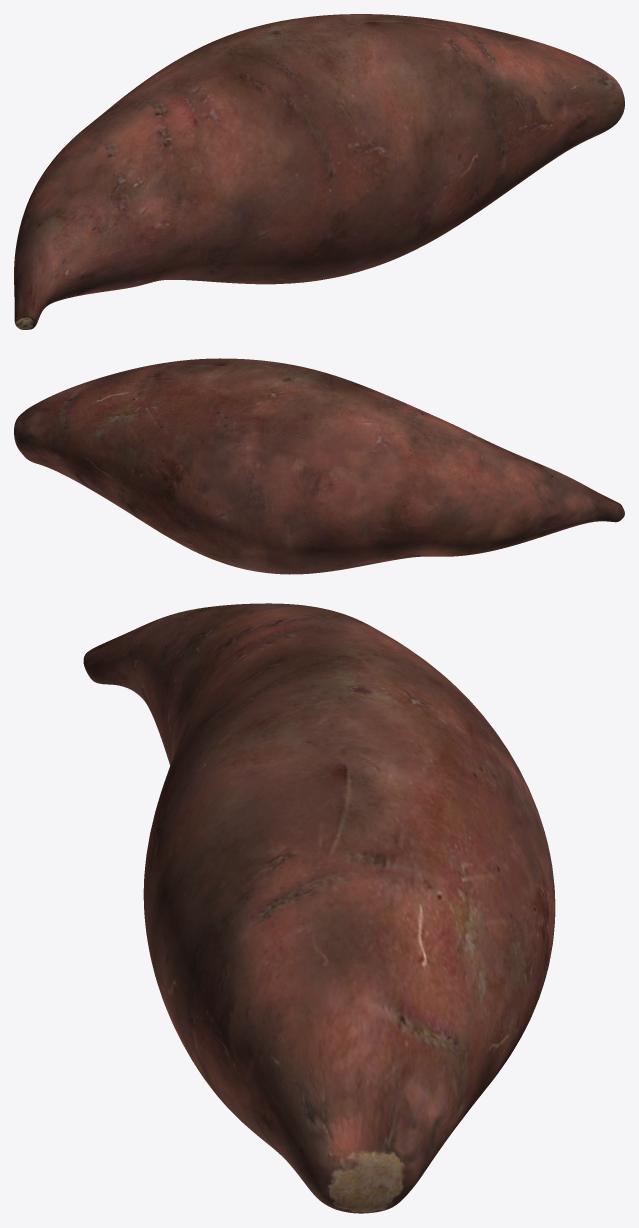
File: 10207_SweetPotato_v3-L3.obj
3 views of the same model, one above another, from view 1: azimuth 30°, elevation 25°; view 2: azimuth 150°, elevation 25°; view 3: azimuth 270°, elevation 25° (orthographic). The views are drawn at different scales.
Visible parts, largest first — view 1: pCylinder1 group1; view 2: pCylinder1 group1; view 3: pCylinder1 group1.
Boxes of the visible parts, x1,y1,x2,y2 form: pCylinder1 group1: (14,14,624,329); pCylinder1 group1: (14,358,624,574); pCylinder1 group1: (83,603,555,1213).
Bounding box in the file's own units: 23.54 × 7.99 × 8.91.
1 material, 1 textured.
